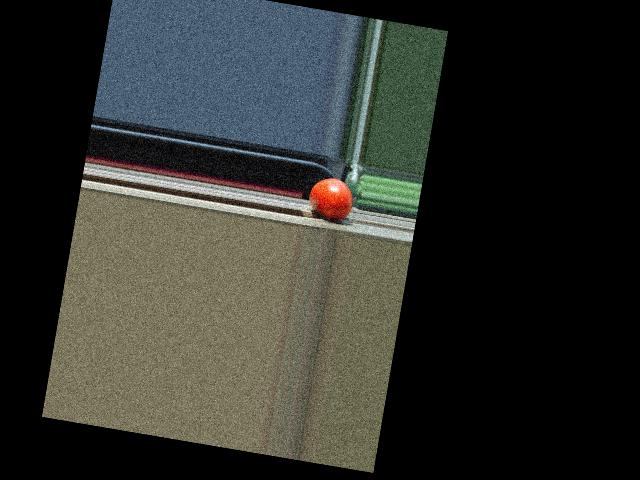tomato: (306, 174, 357, 221)
